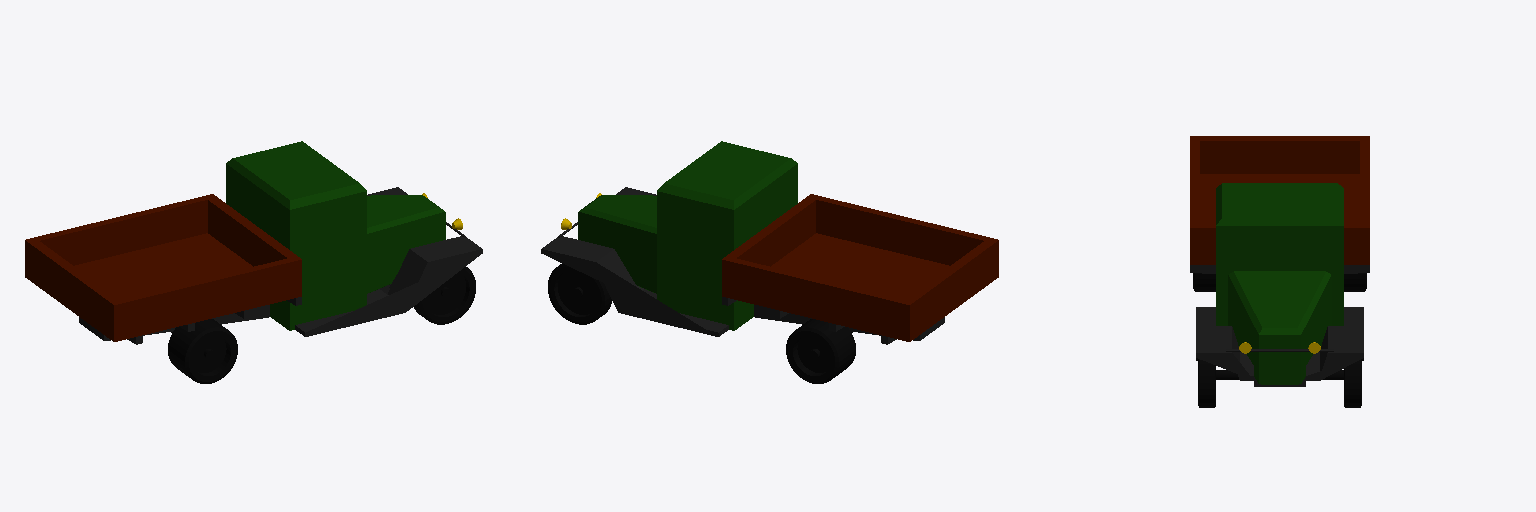
File: truck.obj
3 views of the same model, side by side, from view 1: azimuth 30°, elevation 25°; view 2: azimuth 150°, elevation 25°; view 3: azimuth 270°, elevation 25° (orthographic).
Parts seen in each view (by area): view 1: Kocka.006, Cube.001, Kocka.007, Kocka.001, Henger, Henger.003, Cube; view 2: Kocka.006, Cube.001, Kocka.001, Kocka.008, Henger.001, Henger.004, Cube; view 3: Kocka.006, Cube.001, Kocka.001, Kocka.008, Kocka.007, Henger.003, Henger.004.
Part boxes in pixels (x1,y1,x2,y2): Kocka.006: (25, 194, 301, 341); Cube.001: (226, 141, 366, 330); Kocka.007: (295, 236, 482, 336); Kocka.001: (367, 195, 445, 293); Henger: (168, 319, 237, 383); Henger.003: (414, 267, 475, 324); Cube: (79, 305, 269, 340); Kocka.006: (722, 194, 998, 341); Cube.001: (657, 141, 797, 330); Kocka.001: (578, 195, 656, 293); Kocka.008: (541, 236, 728, 336); Henger.001: (786, 319, 855, 383); Henger.004: (548, 263, 611, 324); Cube: (754, 305, 944, 340); Kocka.006: (1190, 136, 1369, 264); Cube.001: (1216, 183, 1343, 325); Kocka.001: (1228, 271, 1331, 384); Kocka.008: (1306, 307, 1363, 380); Kocka.007: (1196, 307, 1253, 380); Henger.003: (1198, 359, 1215, 407); Henger.004: (1344, 359, 1361, 407).
Bounding box in the file's own units: 3.37 × 1.3 × 1.4.